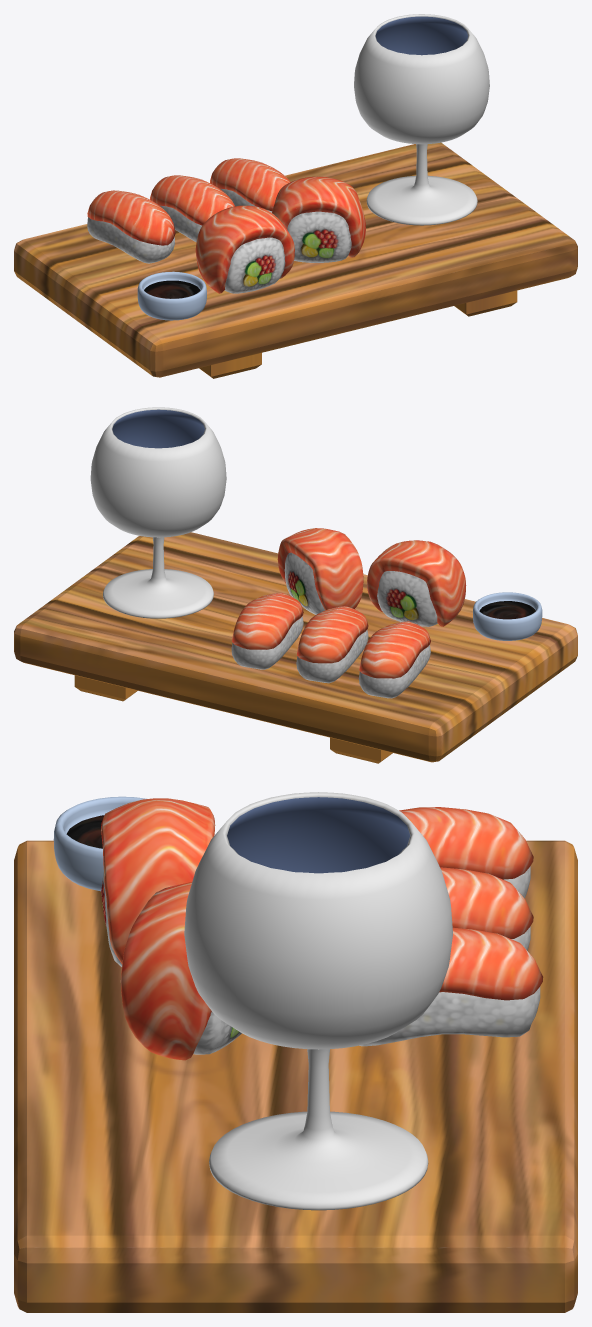
The model's file is sushiset.fbx.
3 views of the same model, one above another, from view 1: azimuth 30°, elevation 25°; view 2: azimuth 150°, elevation 25°; view 3: azimuth 270°, elevation 25° (orthographic). The views are drawn at different scales.
Visible parts, largest first — view 1: woodcutboard, Circle, Cube.004, Cube.001, salmontop.002, Circle.002, Cube, Cube.003, salmontop, salmontop.001, sushirice.002, sushirice.001; view 2: woodcutboard, Circle, Cube.001, Cube.004, salmontop.001, salmontop.002, salmontop, Circle.002, Cube.003, Cube, sushirice, sushirice.002 (+1 smaller); view 3: woodcutboard, Circle, Cube.004, Cube.001, salmontop.002, salmontop, sushirice, salmontop.001, Circle.002, Cube.
Part boxes in pixels (x1,y1,x2,y2): woodcutboard: [14, 142, 577, 378]; Circle: [354, 14, 489, 225]; Cube.004: [195, 205, 294, 293]; Cube.001: [272, 176, 365, 257]; salmontop.002: [87, 190, 175, 245]; Circle.002: [137, 271, 206, 320]; Cube: [287, 211, 351, 262]; Cube.003: [224, 237, 285, 293]; salmontop: [210, 158, 290, 211]; salmontop.001: [150, 175, 234, 225]; sushirice.002: [87, 217, 174, 263]; sushirice.001: [160, 205, 201, 242]; woodcutboard: [14, 532, 577, 763]; Circle: [90, 407, 226, 618]; Cube.001: [277, 528, 363, 610]; Cube.004: [367, 540, 466, 626]; salmontop.001: [297, 606, 368, 663]; salmontop.002: [359, 621, 430, 678]; salmontop: [232, 592, 303, 649]; Circle.002: [473, 592, 542, 640]; Cube.003: [377, 571, 437, 626]; Cube: [284, 552, 324, 614]; sushirice: [231, 616, 303, 669]; sushirice.002: [358, 645, 430, 698]; woodcutboard: [14, 840, 577, 1312]; Circle: [184, 792, 452, 1210]; Cube.004: [101, 798, 215, 963]; Cube.001: [120, 882, 211, 1060]; salmontop.002: [399, 807, 533, 879]; salmontop: [439, 927, 543, 1000]; sushirice: [359, 986, 540, 1046]; salmontop.001: [440, 867, 533, 938]; Circle.002: [53, 796, 146, 891]; Cube: [193, 1011, 241, 1054].
Size of the model in its own units: 171 by 85.42 by 99.02.
